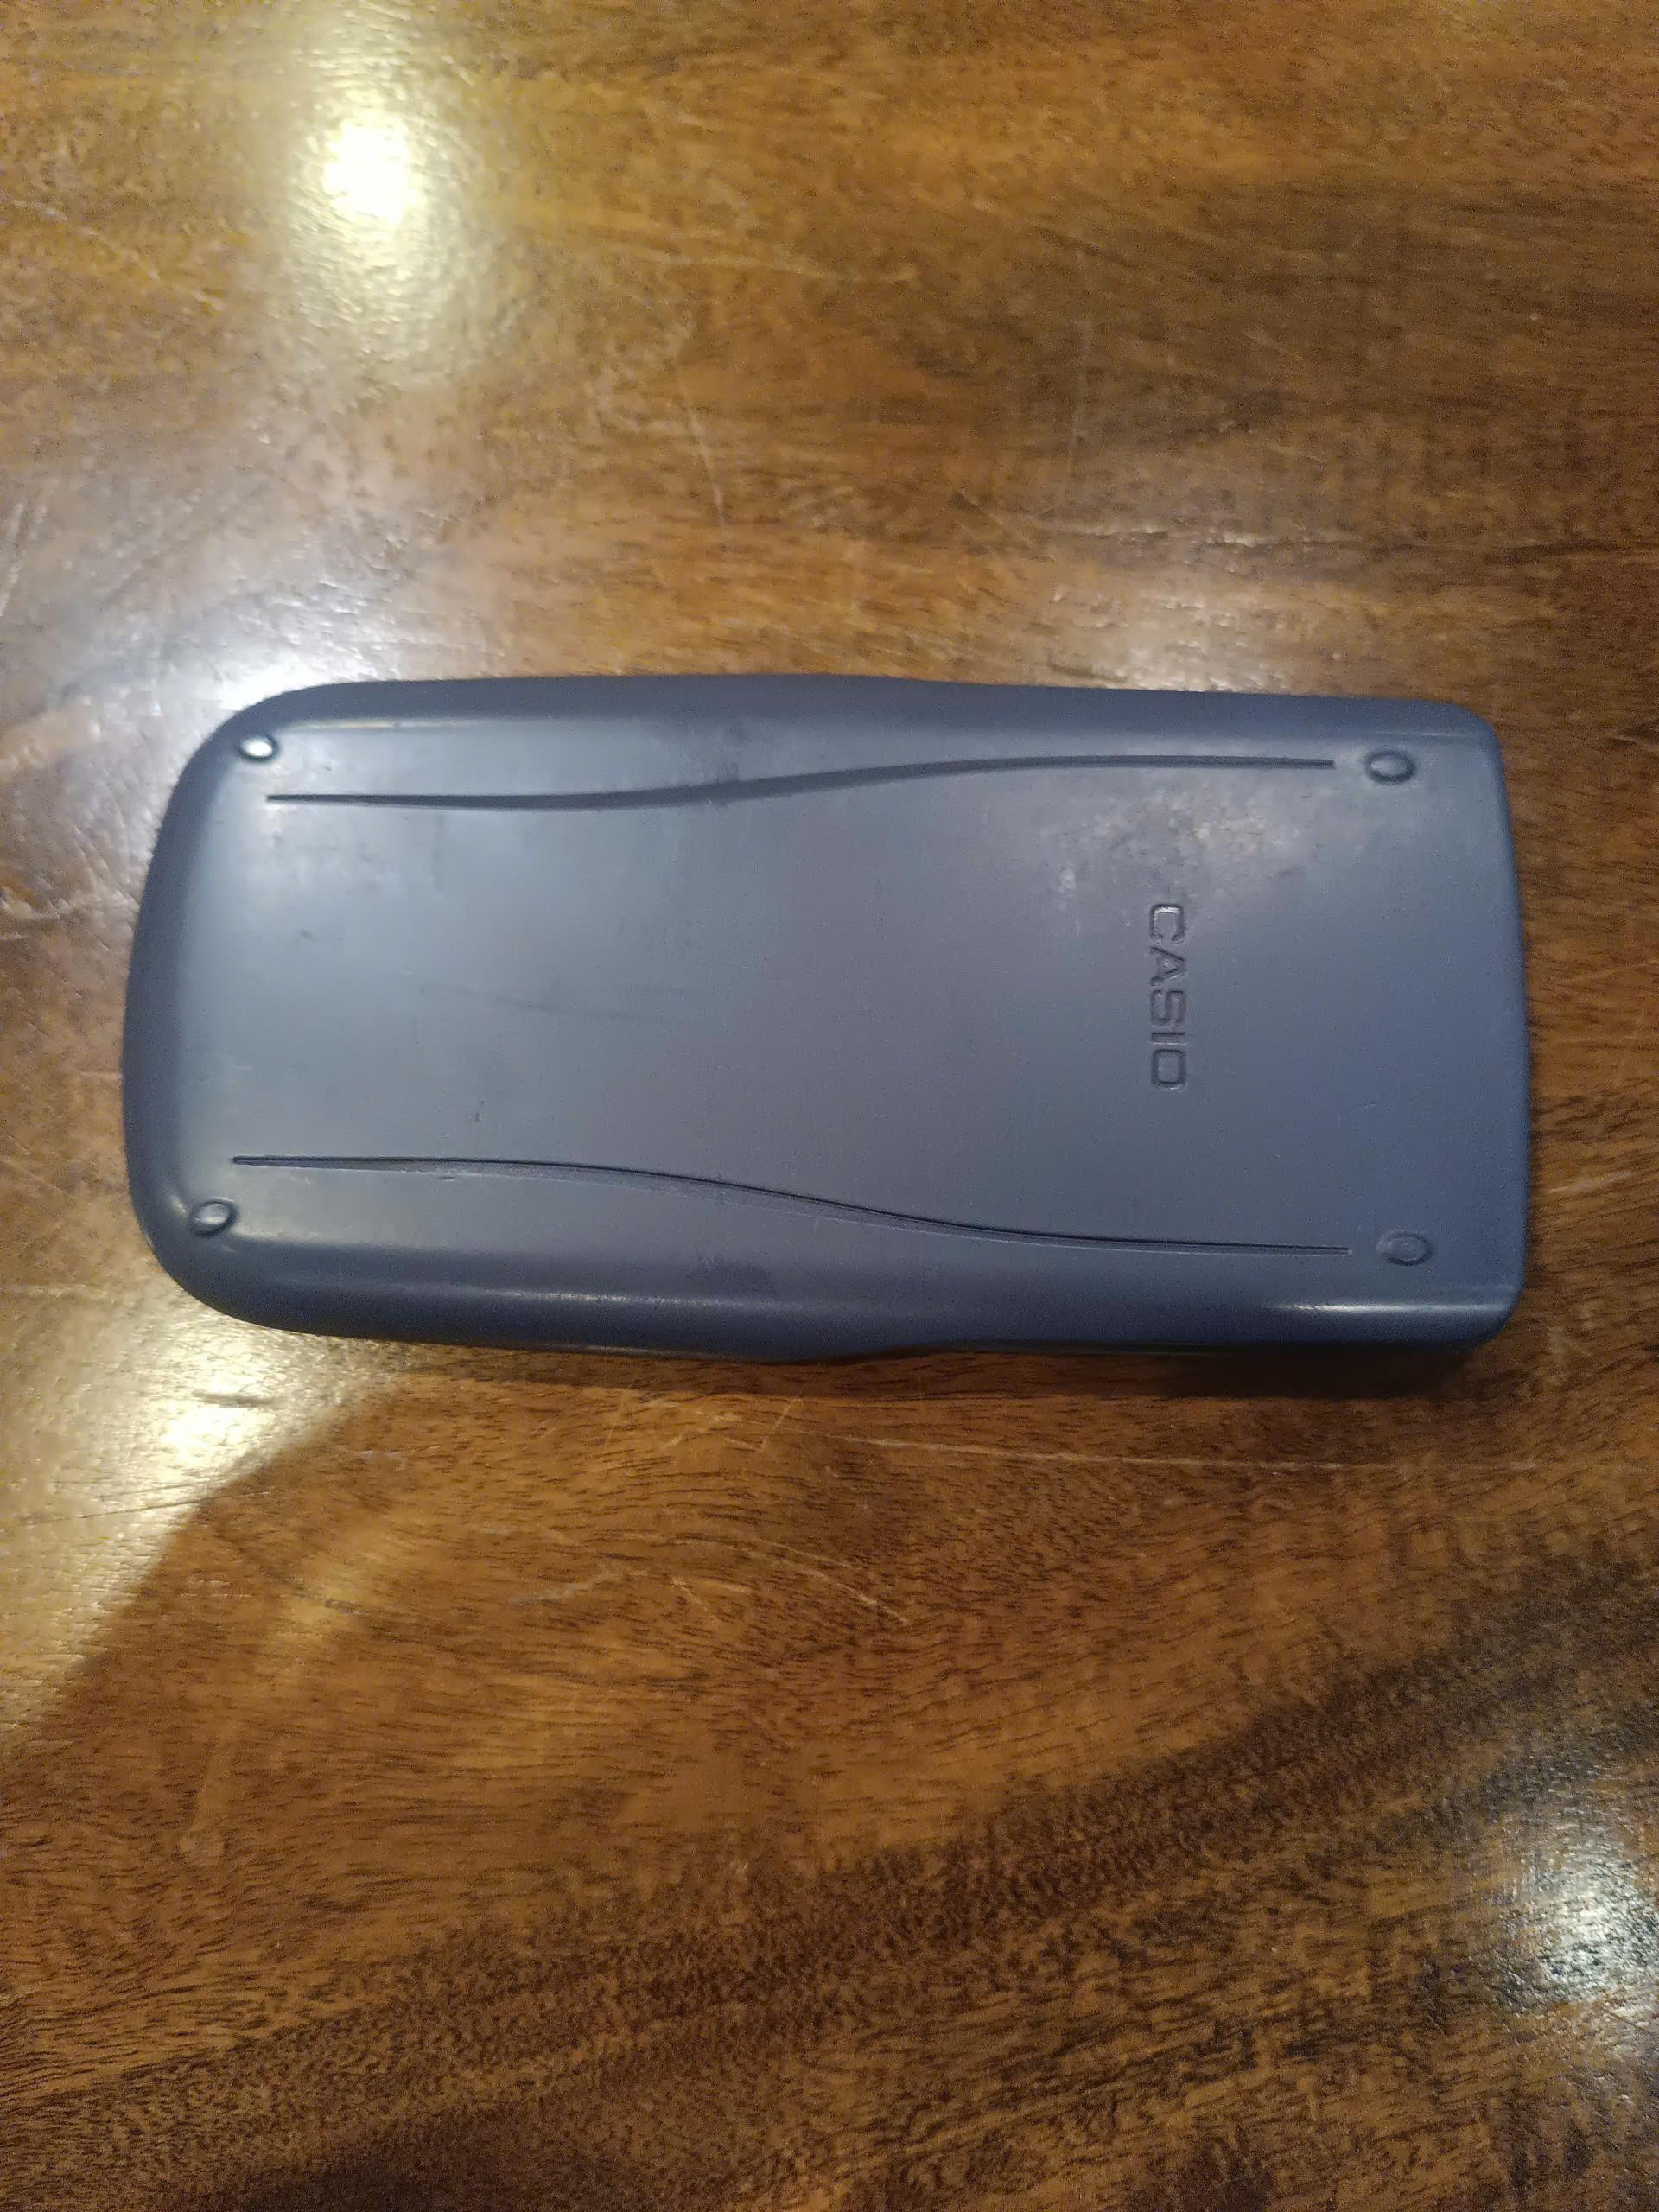Con lai: (129, 665, 1528, 1325)
